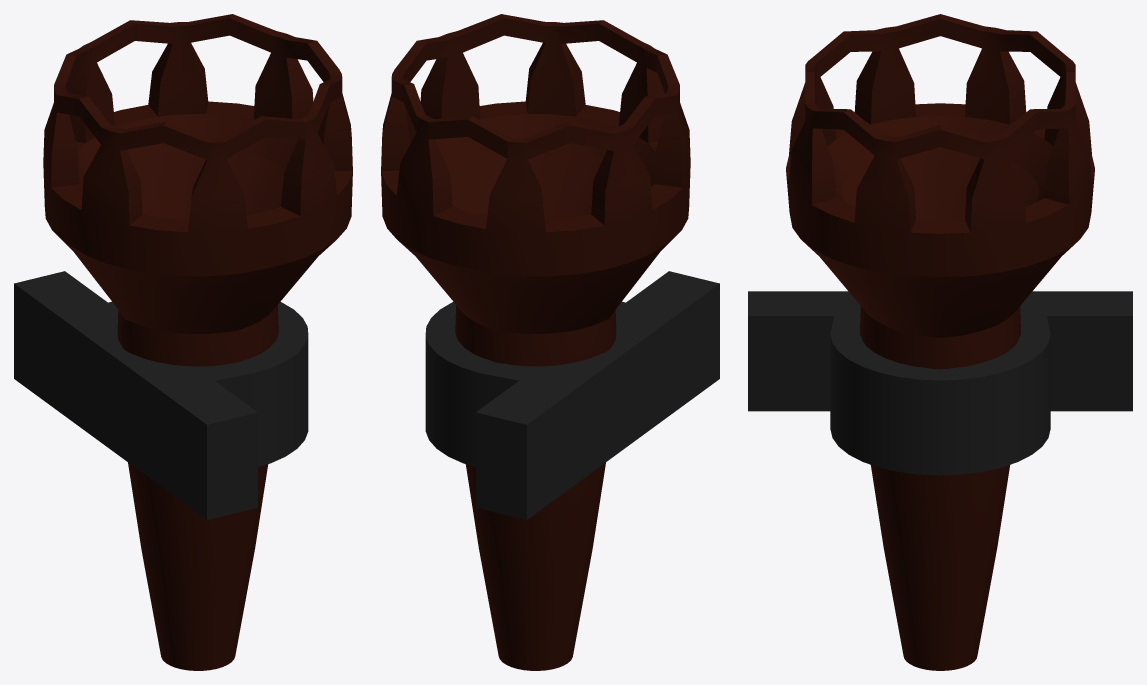
Rendered from antorcha.fbx.
3 renders of one model, left to right at view 1: azimuth 30°, elevation 25°; view 2: azimuth 150°, elevation 25°; view 3: azimuth 270°, elevation 25°, orthographic.
Parts seen in each view (by area): view 1: Cylinder.001; view 2: Cylinder.001; view 3: Cylinder.001.
Boxes of the visible parts, x1=… form: Cylinder.001: x1=14, y1=14, x2=352, y2=670; Cylinder.001: x1=381, y1=14, x2=719, y2=670; Cylinder.001: x1=748, y1=14, x2=1132, y2=670.
Size of the model in its own units: 376 by 782 by 468.
